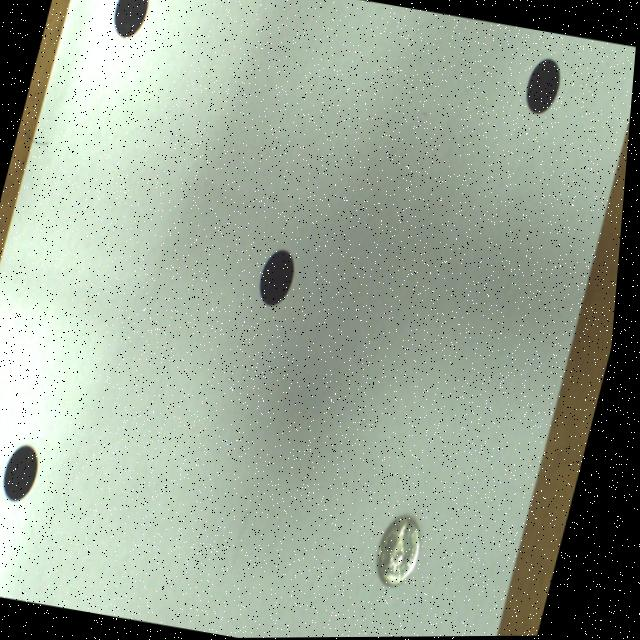space: (264, 250, 298, 305), (12, 445, 46, 499), (528, 59, 561, 114), (114, 0, 148, 38)
tail1bath: (387, 518, 429, 586)
